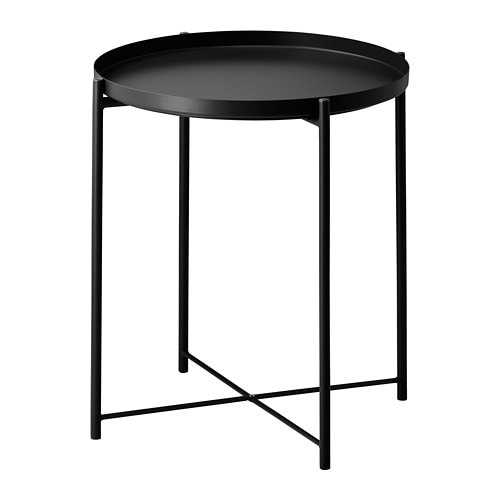obstacle: (91, 31, 408, 469)
